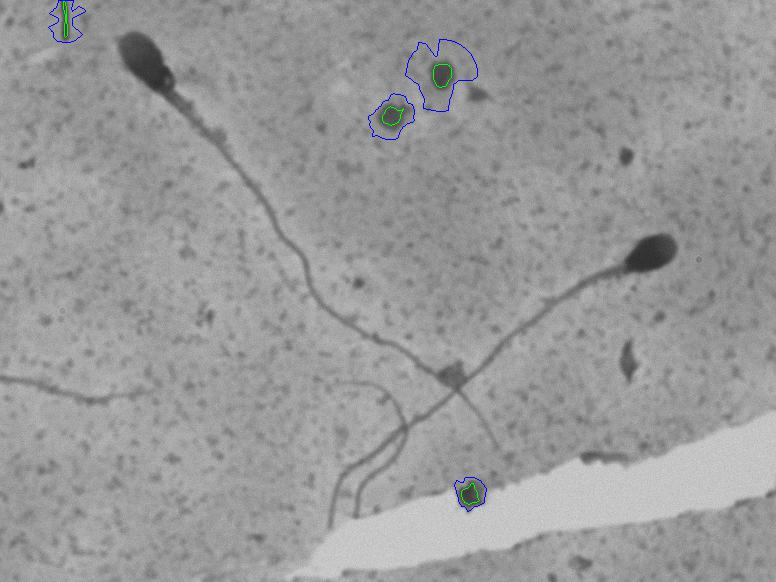Abnormal: (111, 17, 510, 457)
Normal: (310, 209, 692, 521)
